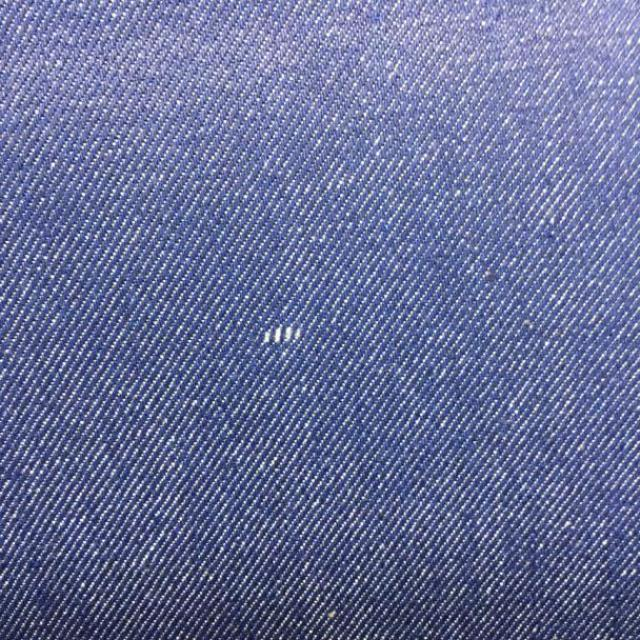Knot: (263, 325, 302, 345)
